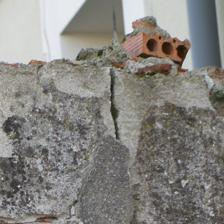Crack: (52, 34, 76, 123)
